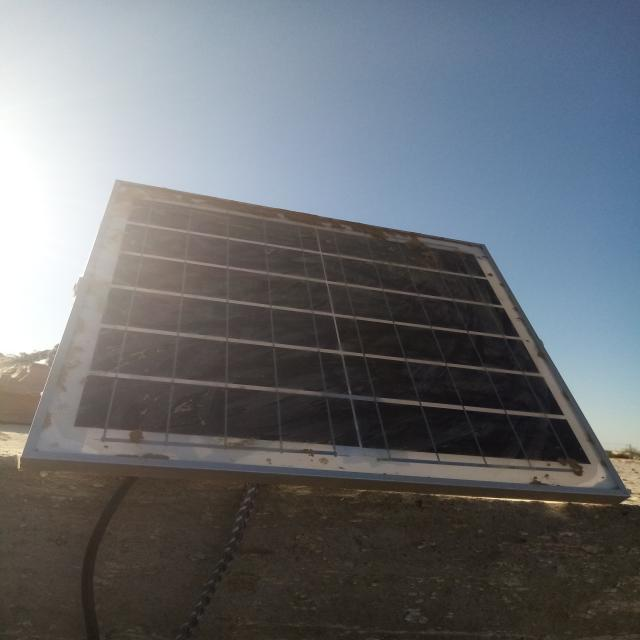faulty: (25, 182, 619, 491)
